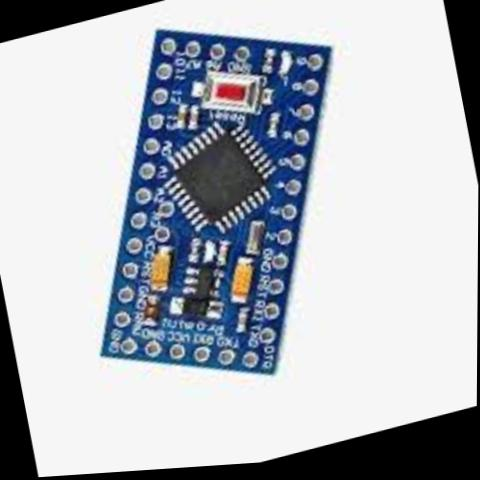Arduino-Pro-Mini: (25, 0, 409, 432)
